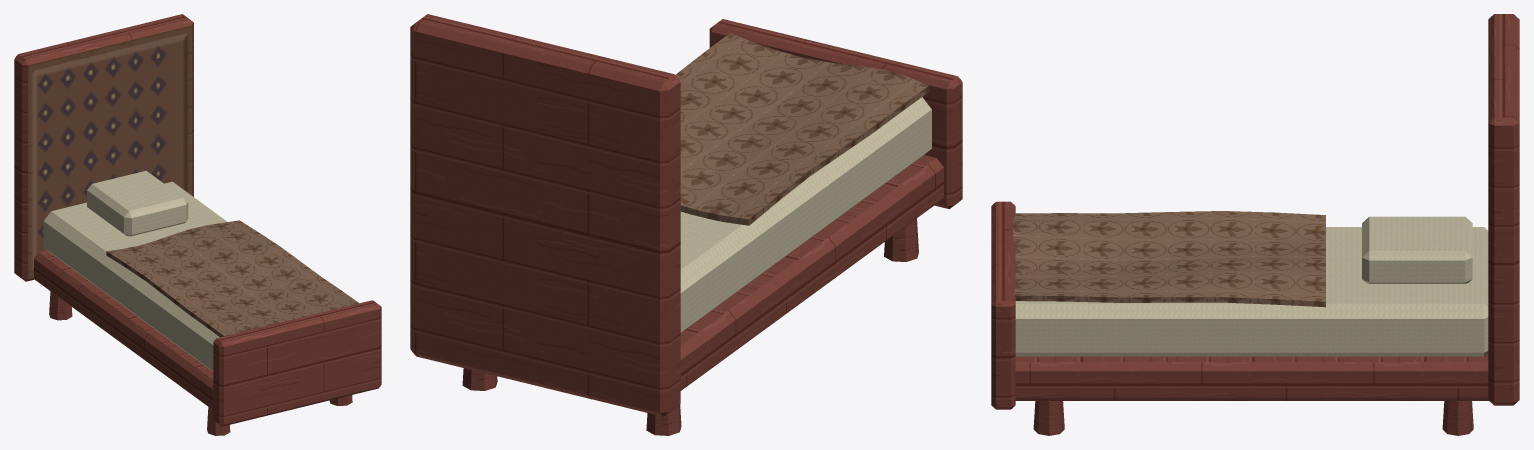
The model's file is MD_72_SingleBed.fbx.
The picture shows the model from 3 angles, left to right: view 1: azimuth 30°, elevation 25°; view 2: azimuth 150°, elevation 25°; view 3: azimuth 270°, elevation 25°; orthographic projection. The views are drawn at different scales.
Visible parts, largest first — view 1: MD_72_SingleBed_headboard, MD_72_SingleBed_stitched_quilt, MD_72_SingleBed_footboard, MD_72_SingleBed_separate_mattress, MD_72_SingleBed_bedframe, MD_72_SingleBed_plump_pillow, MD_72_SingleBed_bed_foot.001; view 2: MD_72_SingleBed_headboard, MD_72_SingleBed_stitched_quilt, MD_72_SingleBed_separate_mattress, MD_72_SingleBed_bedframe, MD_72_SingleBed_footboard, MD_72_SingleBed_bed_foot, MD_72_SingleBed_bed_foot.001, MD_72_SingleBed_bed_foot.003; view 3: MD_72_SingleBed_separate_mattress, MD_72_SingleBed_stitched_quilt, MD_72_SingleBed_bedframe, MD_72_SingleBed_headboard, MD_72_SingleBed_plump_pillow, MD_72_SingleBed_footboard, MD_72_SingleBed_bed_foot.002, MD_72_SingleBed_bed_foot.003.
Boxes of the visible parts, x1,y1,x2,y2 form: MD_72_SingleBed_headboard: (14, 14, 193, 281); MD_72_SingleBed_stitched_quilt: (106, 220, 358, 337); MD_72_SingleBed_footboard: (213, 300, 381, 426); MD_72_SingleBed_separate_mattress: (43, 181, 227, 371); MD_72_SingleBed_bedframe: (33, 250, 213, 409); MD_72_SingleBed_plump_pillow: (87, 170, 188, 236); MD_72_SingleBed_bed_foot.001: (49, 291, 72, 320); MD_72_SingleBed_headboard: (410, 14, 680, 416); MD_72_SingleBed_stitched_quilt: (675, 33, 929, 225); MD_72_SingleBed_separate_mattress: (680, 97, 931, 332); MD_72_SingleBed_bedframe: (680, 155, 943, 390); MD_72_SingleBed_footboard: (709, 19, 962, 209); MD_72_SingleBed_bed_foot: (884, 218, 918, 261); MD_72_SingleBed_bed_foot.001: (646, 404, 681, 435); MD_72_SingleBed_bed_foot.003: (462, 368, 497, 390); MD_72_SingleBed_separate_mattress: (1015, 227, 1488, 356); MD_72_SingleBed_stitched_quilt: (1013, 211, 1325, 307); MD_72_SingleBed_bedframe: (1015, 355, 1488, 400); MD_72_SingleBed_headboard: (1488, 14, 1519, 405); MD_72_SingleBed_plump_pillow: (1362, 216, 1472, 283); MD_72_SingleBed_footboard: (991, 201, 1015, 409); MD_72_SingleBed_bed_foot.002: (1033, 401, 1064, 435); MD_72_SingleBed_bed_foot.003: (1442, 401, 1473, 435).
Size of the model in its own units: 1.07 by 1.49 by 2.2.
Materials: 4 (4 with a texture image).
